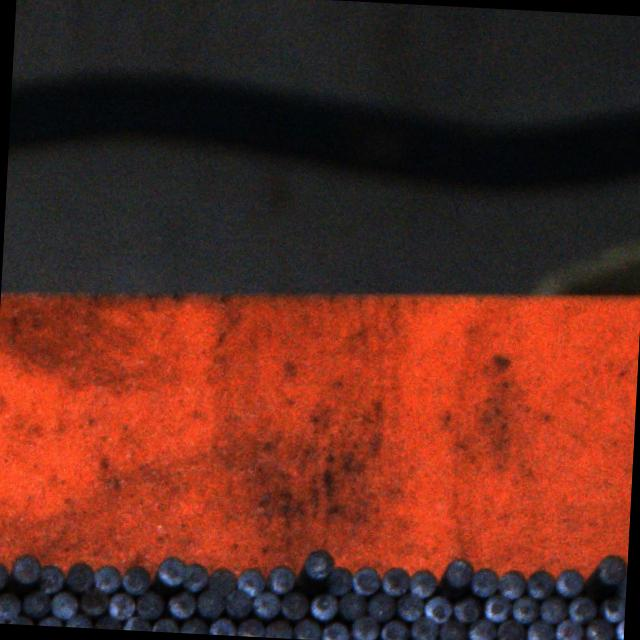tool: (156, 554, 187, 586), (64, 561, 95, 592), (10, 552, 40, 584), (207, 566, 237, 598), (235, 566, 265, 597), (304, 548, 334, 579), (351, 565, 381, 596), (92, 562, 121, 594), (497, 568, 526, 600), (444, 557, 474, 587), (596, 554, 626, 584), (121, 564, 150, 595), (381, 566, 410, 597), (266, 564, 295, 594), (469, 567, 498, 597), (554, 568, 583, 598), (366, 592, 395, 622), (36, 563, 64, 594), (181, 562, 209, 592), (326, 566, 354, 596), (408, 568, 436, 598), (526, 568, 554, 598), (280, 590, 308, 620), (50, 590, 78, 619), (135, 591, 164, 619), (423, 595, 452, 623), (510, 595, 539, 623), (567, 595, 596, 623), (80, 588, 108, 616), (107, 592, 135, 620), (196, 590, 224, 618), (224, 588, 252, 616), (252, 590, 280, 618), (396, 592, 424, 620), (483, 594, 511, 622), (539, 596, 567, 624), (22, 591, 50, 618), (168, 590, 195, 618), (338, 592, 366, 619), (311, 593, 338, 620), (452, 596, 479, 622), (351, 615, 379, 640), (409, 615, 437, 640), (600, 598, 626, 622), (467, 618, 495, 640), (496, 618, 524, 640), (555, 619, 583, 640), (585, 619, 613, 640), (294, 618, 320, 640), (439, 619, 466, 640), (0, 592, 20, 620), (380, 620, 408, 640), (526, 620, 553, 640), (236, 618, 264, 637), (321, 621, 348, 640), (264, 620, 292, 638), (209, 618, 236, 636), (122, 616, 151, 632), (152, 617, 180, 633), (180, 618, 208, 634), (65, 614, 93, 628), (94, 616, 122, 630), (0, 560, 7, 591)
